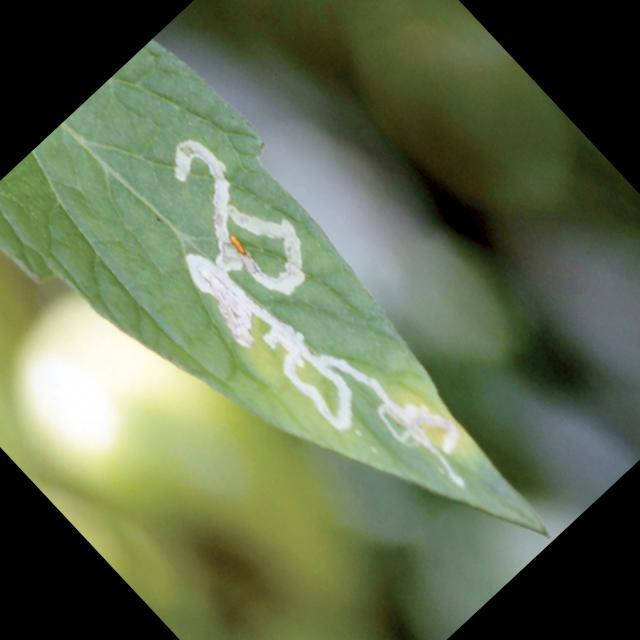Tomato target spot leaf: (0, 28, 600, 640)
